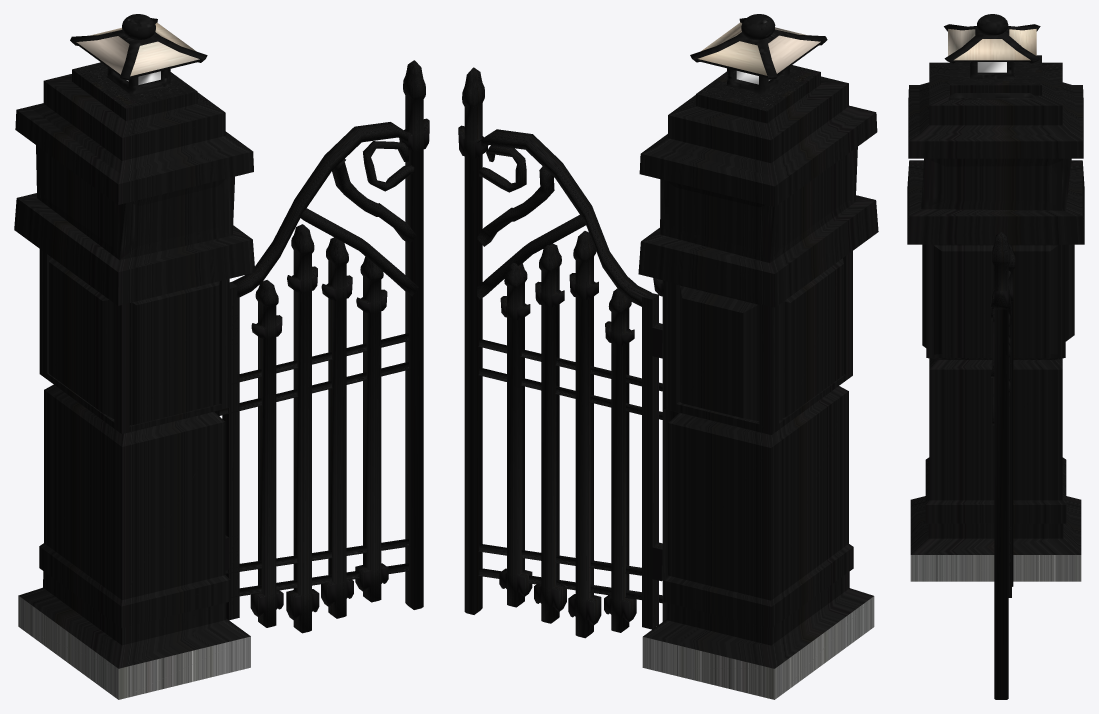
File: gate.fbx
3 renders of one model, left to right at view 1: azimuth 30°, elevation 25°; view 2: azimuth 150°, elevation 25°; view 3: azimuth 270°, elevation 25°, orthographic. The views are drawn at different scales.
Visible parts, largest first — view 1: Plane.009; view 2: Plane.009; view 3: Plane.009.
Boxes of the visible parts, x1,y1,x2,y2 form: Plane.009: (14,14,429,699); Plane.009: (458,14,878,699); Plane.009: (907,14,1084,699).
Bounding box in the file's own units: 87.77 × 152 × 43.17.
